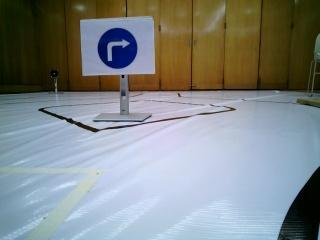right: (79, 20, 153, 74)
